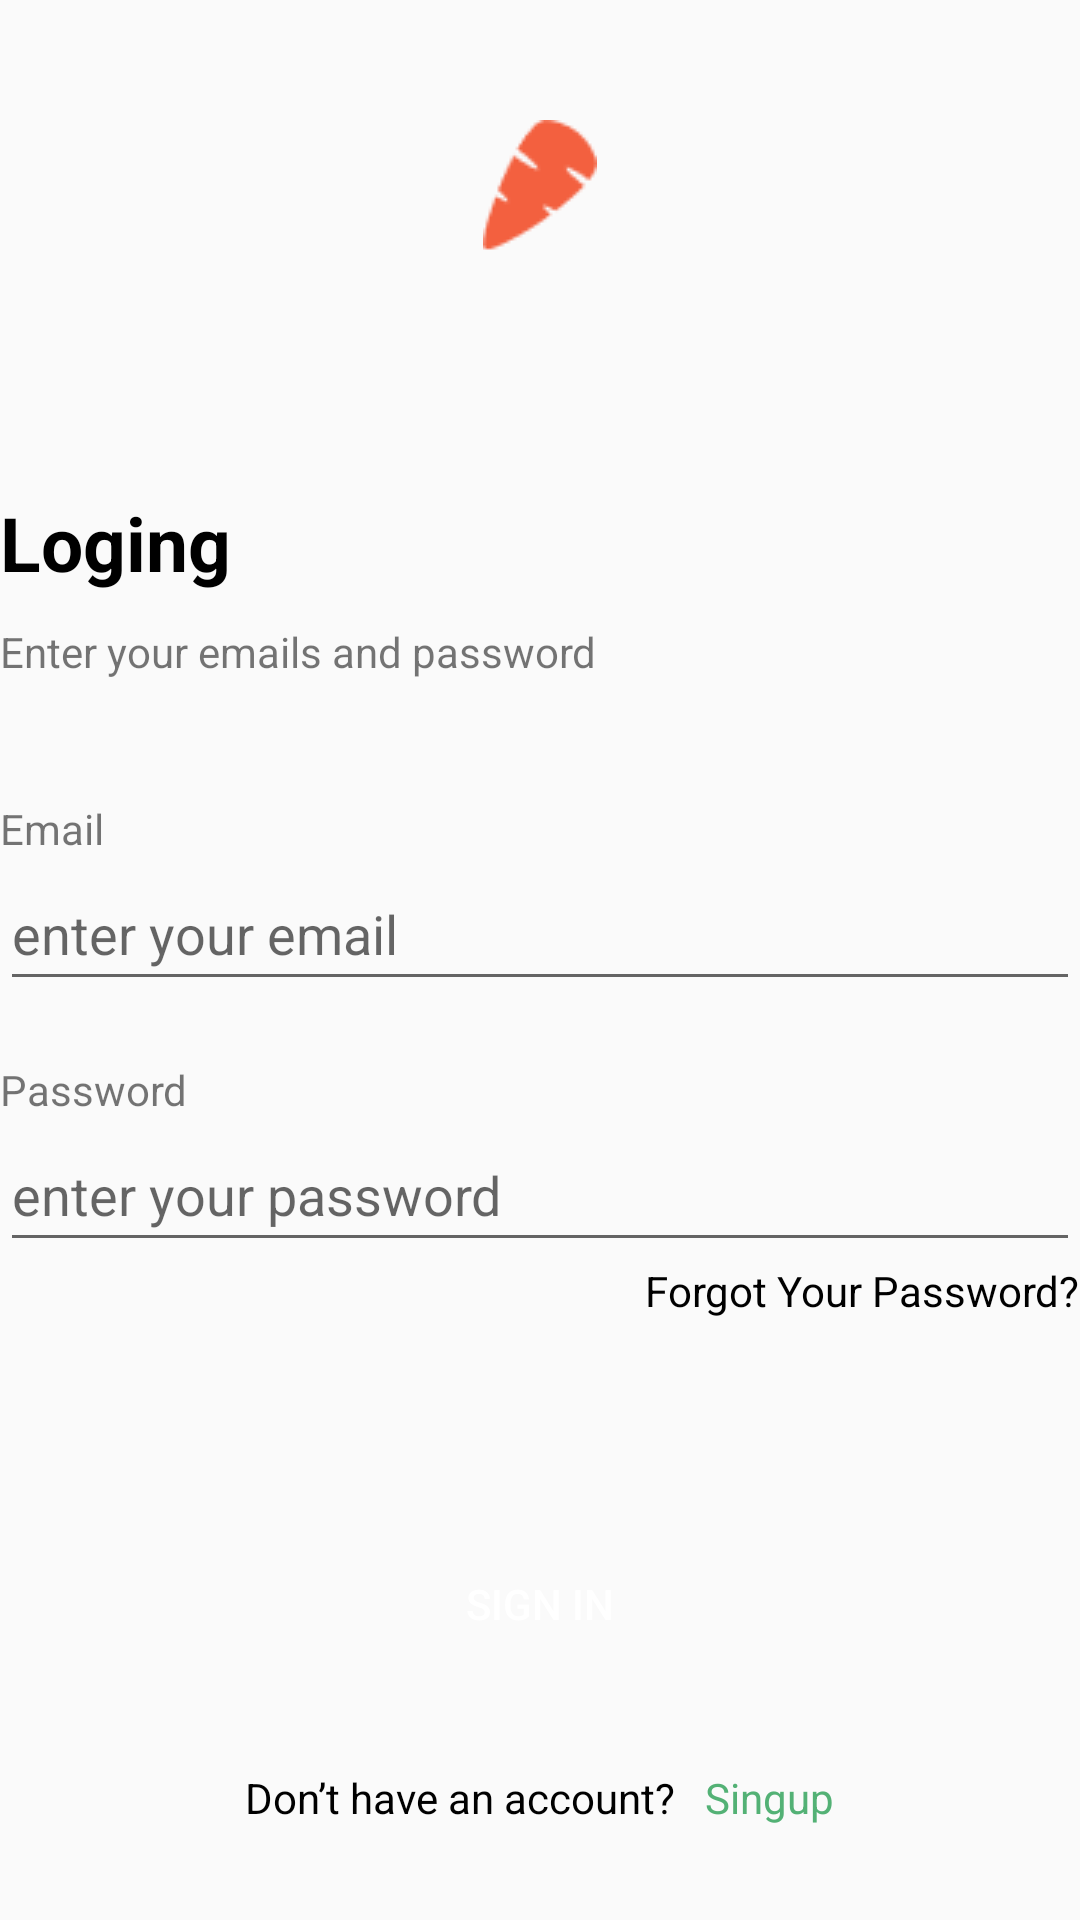

Icons on this 1080w x 1920h Android screen, each with the point to tap as [x,y]:
this is carrot: [540,185]
